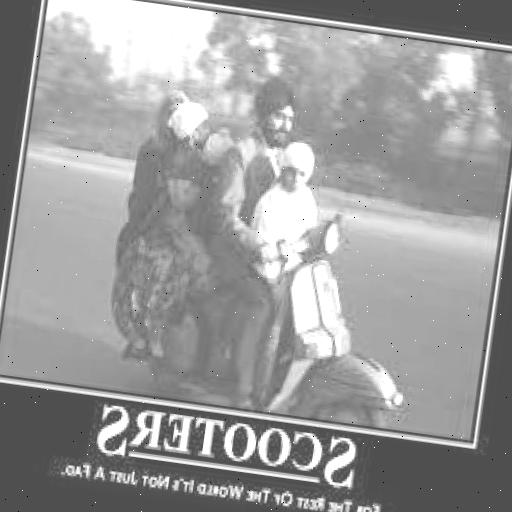no helmet: (222, 70, 312, 160)
triple riding: (88, 51, 466, 433)
